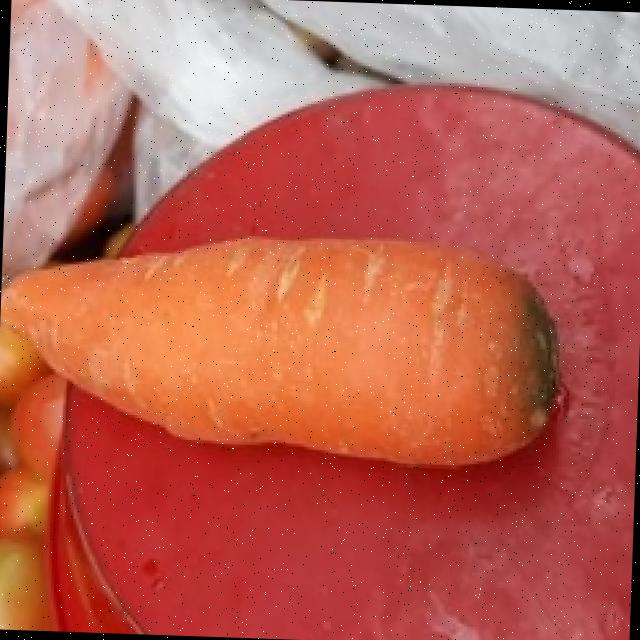carrot: (0, 243, 550, 468)
